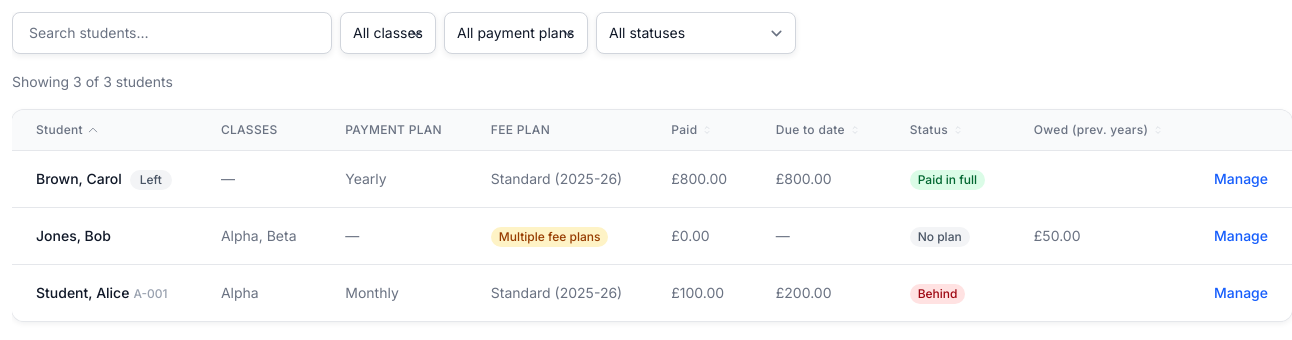
Test: StudentFeesTable › shows a message when nothing matches
In the search field labelled "Search students": (172, 33) [12, 12, 332, 54], type "zzz"
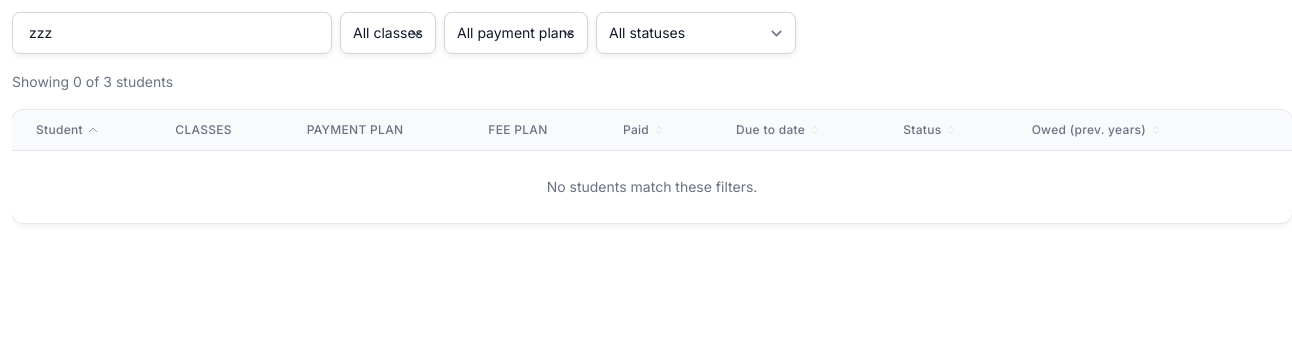
Now the text "No students match these filters." is shown, box [12, 150, 1291, 223]
Now the text "Showing 0 of 3 students" is shown, box [12, 73, 173, 90]
